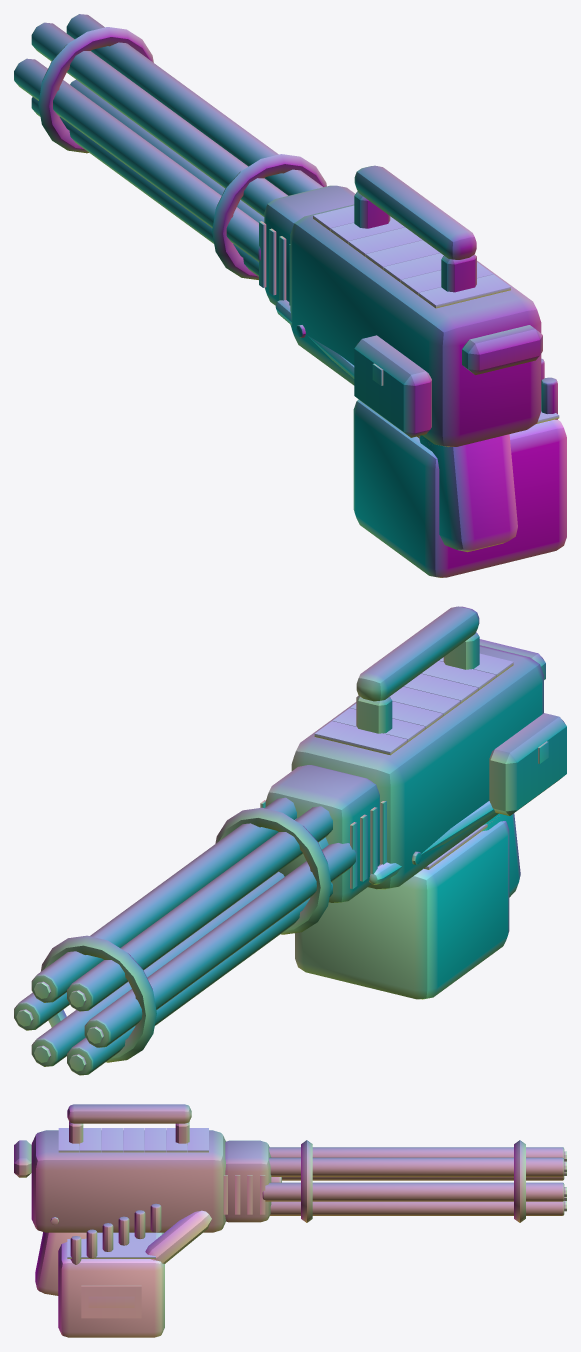
Rendered from wpn_minigun.glb.
3 renders of one model, top to bottom at view 1: azimuth 30°, elevation 25°; view 2: azimuth 150°, elevation 25°; view 3: azimuth 270°, elevation 25°, orthographic. The views are drawn at different scales.
Visible parts, largest first — view 1: wpn_minigun_mesh, spin; view 2: wpn_minigun_mesh, spin; view 3: wpn_minigun_mesh, spin.
Boxes of the visible parts, x1,y1,x2,y2 form: wpn_minigun_mesh: [259, 165, 566, 577]; spin: [14, 14, 326, 279]; wpn_minigun_mesh: [260, 606, 566, 999]; spin: [14, 797, 355, 1075]; wpn_minigun_mesh: [14, 1104, 271, 1337]; spin: [262, 1140, 566, 1222].
Bounding box in the file's own units: 0.0738 × 0.128 × 0.3115.
